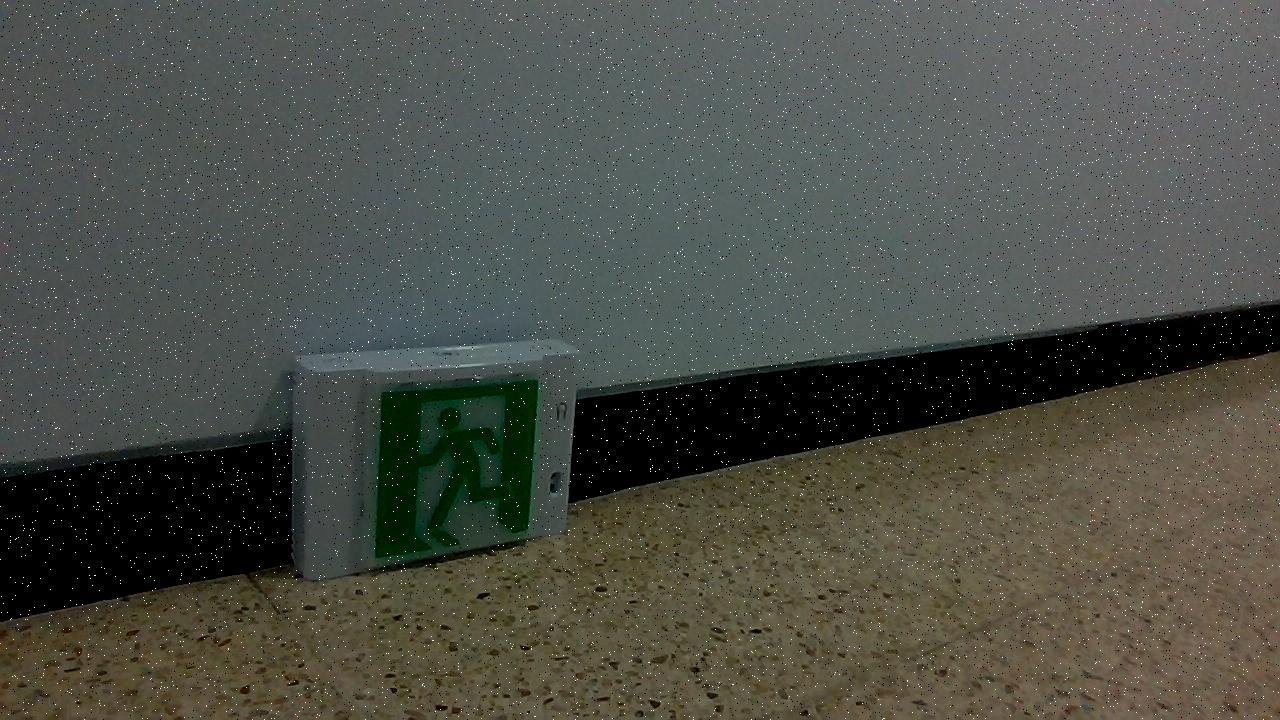emergency_exit: (290, 338, 578, 581)
